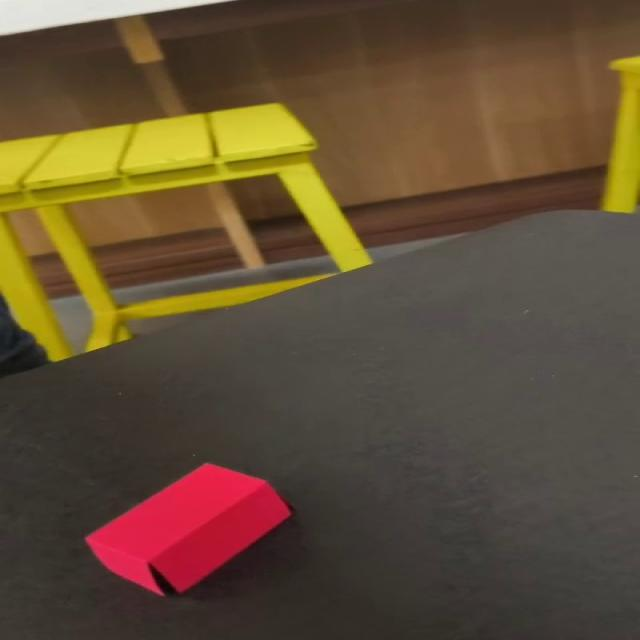red block: (83, 462, 292, 596)
